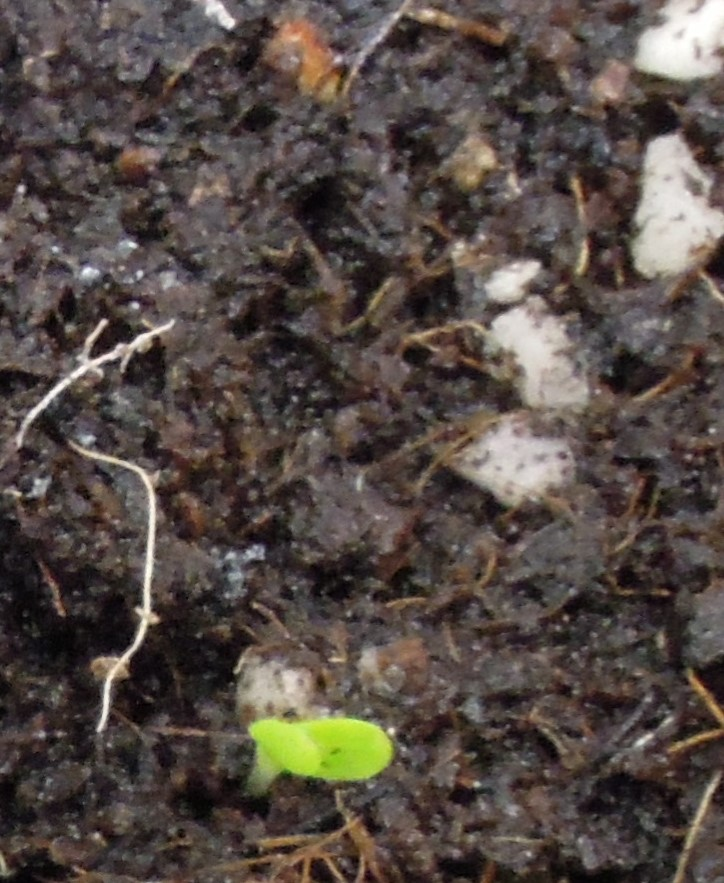week1: (217, 639, 439, 825)
